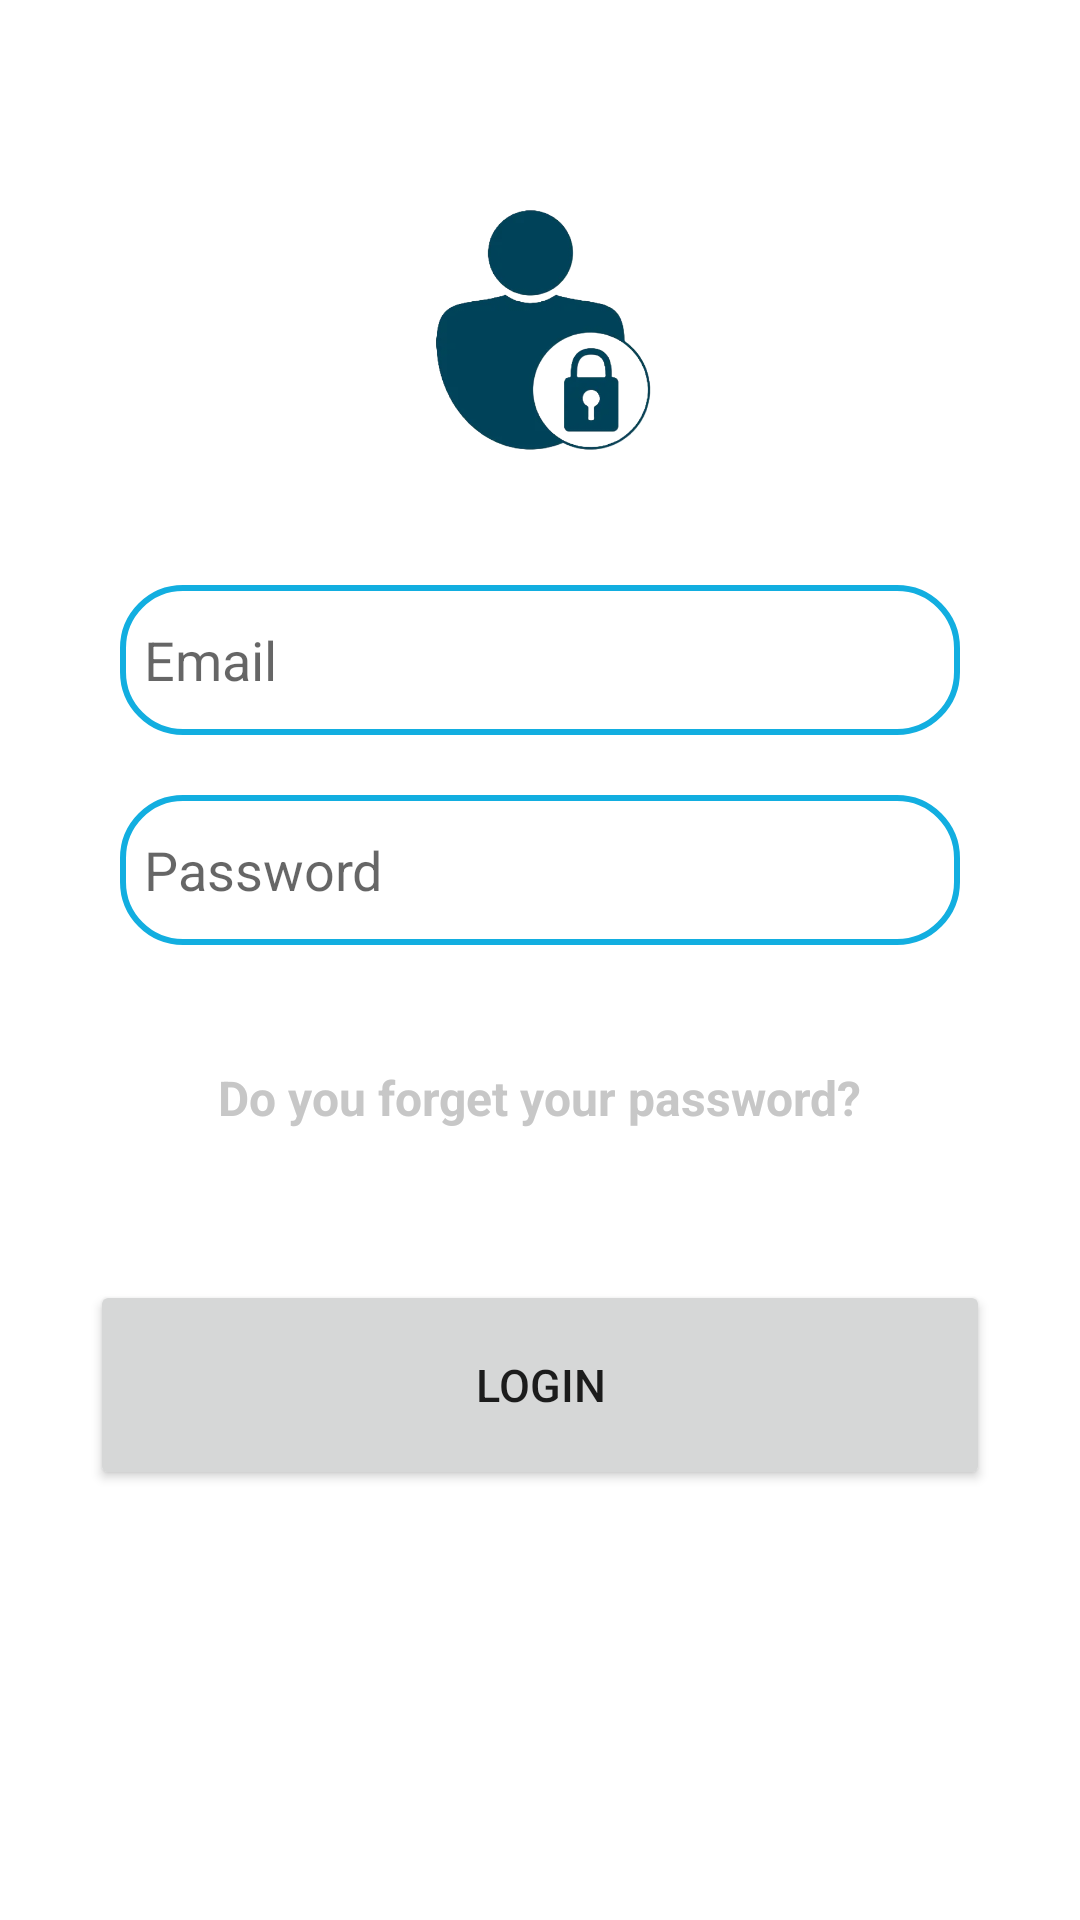

Where icons sit on this 1080*1920 app screen, as [x1=x1, y1=y1, x2=x2, y2=y2]:
user: [x1=436, y1=210, x2=651, y2=450]
